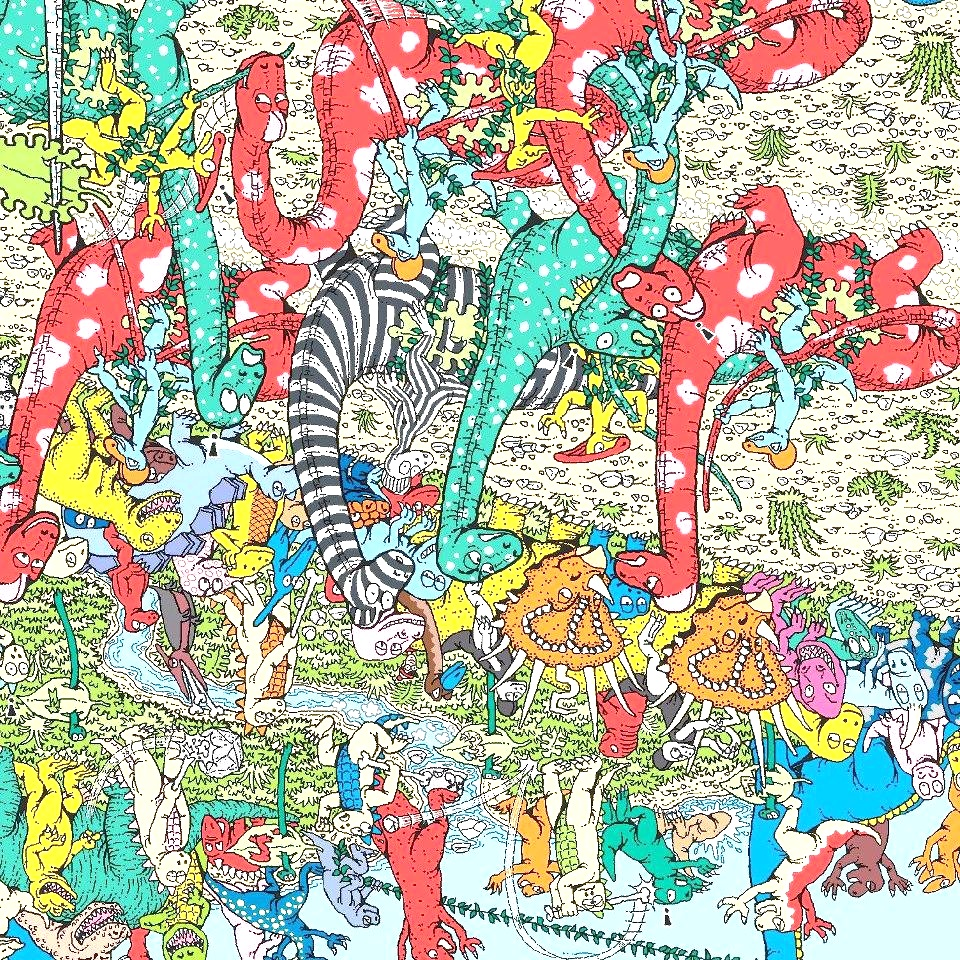waldo: (397, 650, 417, 681)
